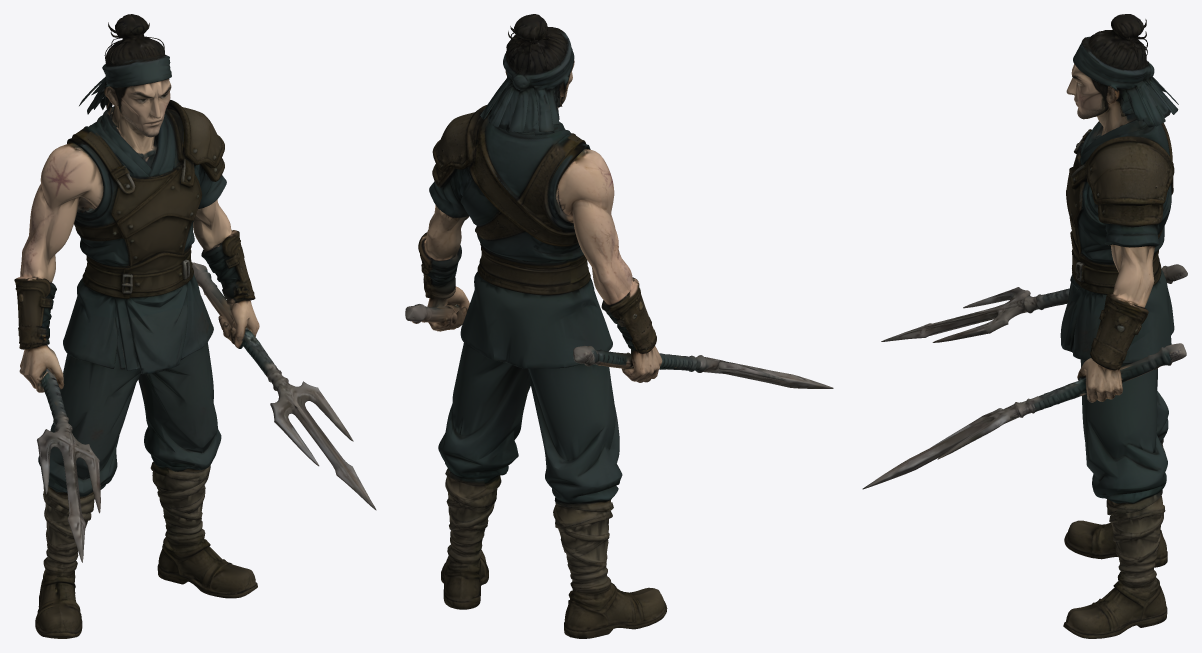
Rendered from ding_desun_ai.glb.
The picture shows the model from 3 angles, left to right: view 1: azimuth 30°, elevation 25°; view 2: azimuth 150°, elevation 25°; view 3: azimuth 270°, elevation 25°; orthographic projection. The views are drawn at different scales.
Visible parts, largest first — view 1: node_0; view 2: node_0; view 3: node_0.
Boxes of the visible parts, x1,y1,x2,y2 form: node_0: [14, 14, 376, 638]; node_0: [405, 14, 833, 638]; node_0: [862, 14, 1187, 638].
Bounding box in the file's own units: 0.5758 × 1.07 × 0.5466.
Materials: 1 (1 with a texture image).
